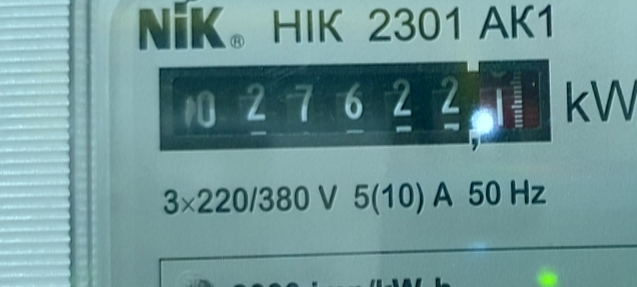0: (193, 87, 218, 130)
1: (490, 85, 507, 128)
2: (243, 81, 267, 124), (388, 77, 413, 118), (438, 74, 461, 115)
6: (341, 80, 363, 121)
7: (292, 82, 315, 126)
screen: (145, 49, 564, 158)
